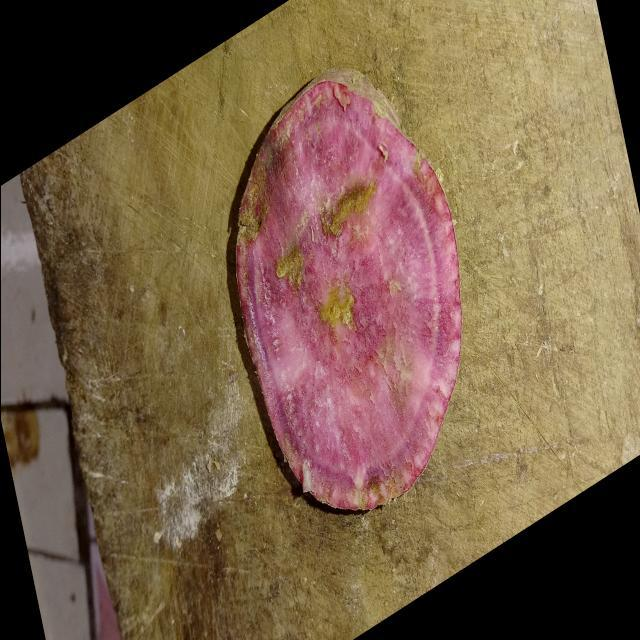Sick Sweet Potato_Tuber Rot: (235, 69, 460, 509)
